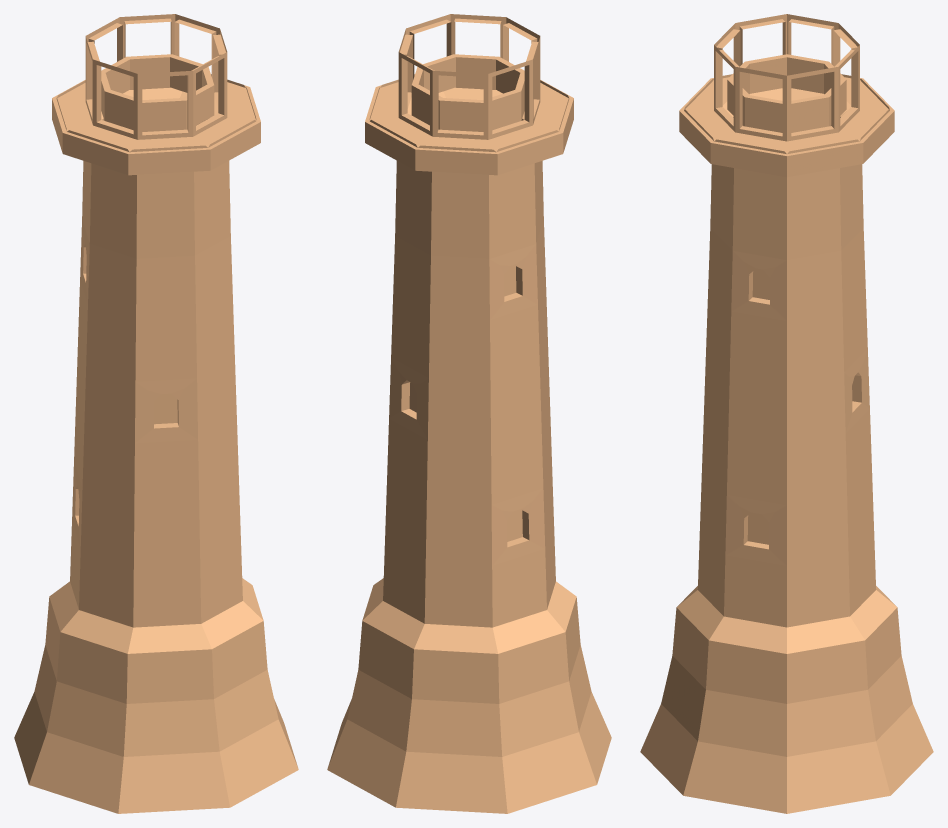
Rendered from LightHouse.obj.
3 renders of one model, left to right at view 1: azimuth 30°, elevation 25°; view 2: azimuth 150°, elevation 25°; view 3: azimuth 270°, elevation 25°, orthographic.
Visible parts, largest first — view 1: Cylinder.050_Cylinder.044; view 2: Cylinder.050_Cylinder.044; view 3: Cylinder.050_Cylinder.044.
Boxes of the visible parts, x1,y1,x2,y2 form: Cylinder.050_Cylinder.044: [14, 14, 298, 813]; Cylinder.050_Cylinder.044: [327, 14, 611, 813]; Cylinder.050_Cylinder.044: [640, 14, 933, 813].
Size of the model in its own units: 0.0339 by 0.0902 by 0.0339.
